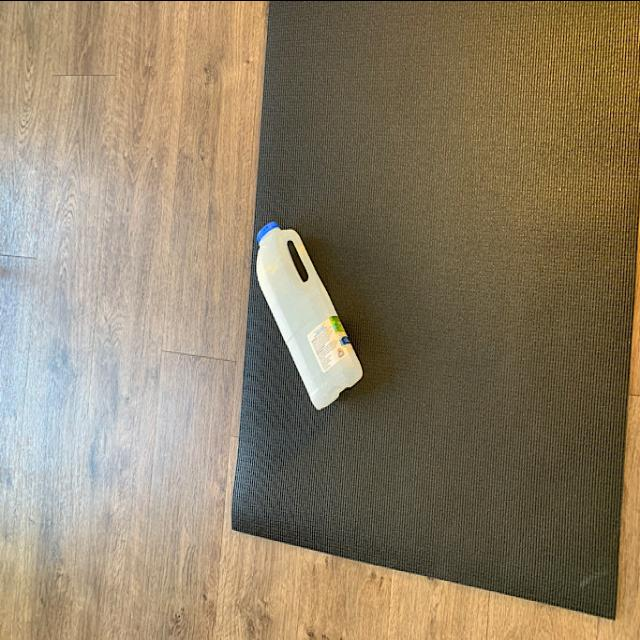litter: (256, 216, 366, 412)
